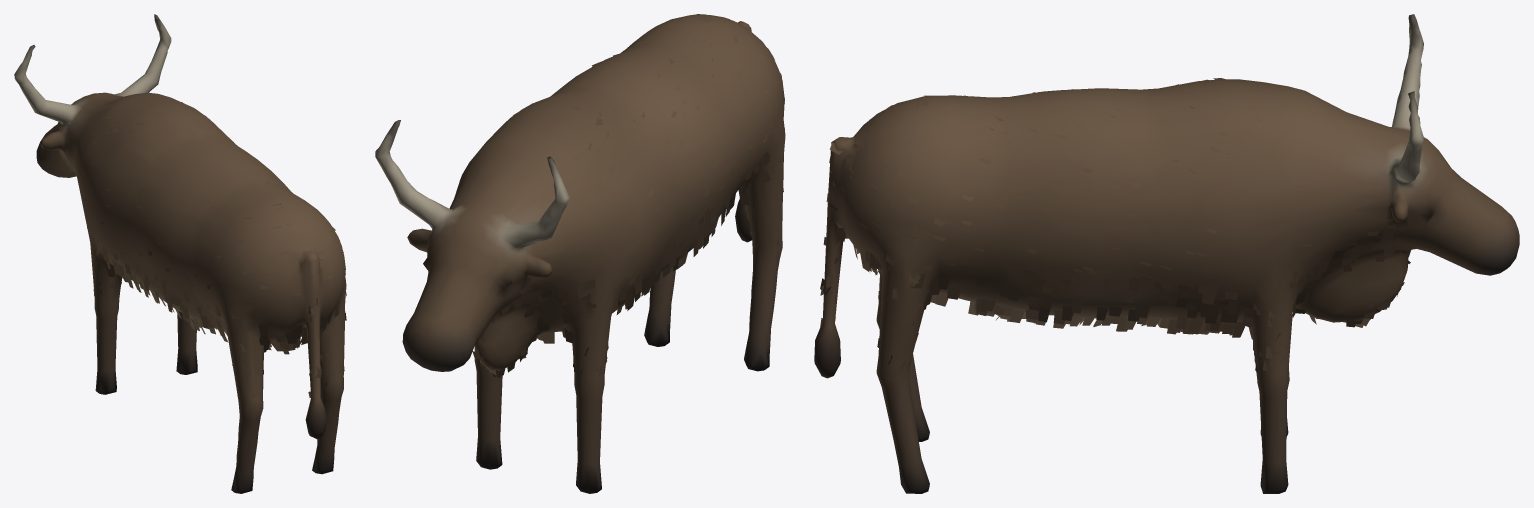
The model's file is animale_bue_1.glb.
3 renders of one model, left to right at view 1: azimuth 30°, elevation 25°; view 2: azimuth 150°, elevation 25°; view 3: azimuth 270°, elevation 25°, orthographic. The views are drawn at different scales.
Visible parts, largest first — view 1: animale_bue_1; view 2: animale_bue_1; view 3: animale_bue_1.
Boxes of the visible parts, x1,y1,x2,y2 form: animale_bue_1: (14,14,346,493); animale_bue_1: (375,14,785,493); animale_bue_1: (814,14,1519,493).
Size of the model in its own units: 0.8464 by 1.63 by 2.53.
